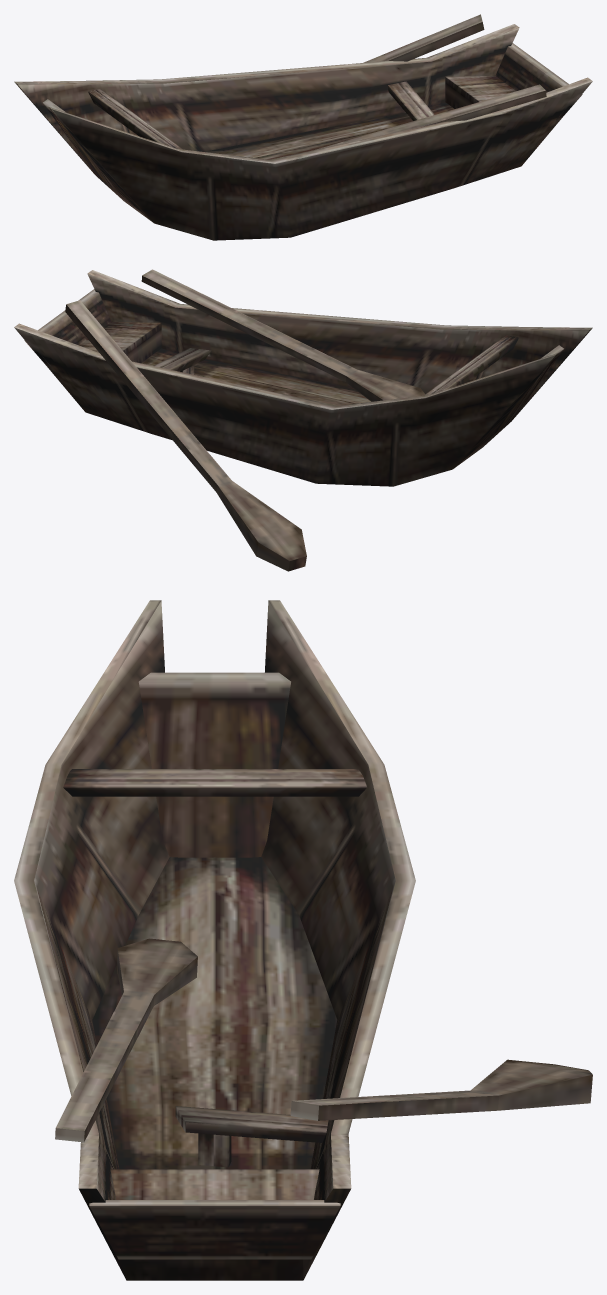
Rendered from general_obj_ferryboat02.fbx.
3 views of the same model, one above another, from view 1: azimuth 30°, elevation 25°; view 2: azimuth 150°, elevation 25°; view 3: azimuth 270°, elevation 25° (orthographic). The views are drawn at different scales.
Parts seen in each view (by area): view 1: Object10; view 2: Object10; view 3: Object10.
Part boxes in pixels (x1,y1,x2,y2): Object10: (14, 14, 592, 240); Object10: (14, 269, 592, 571); Object10: (14, 600, 592, 1280).
Bounding box in the file's own units: 4.77 × 1.71 × 2.64.
